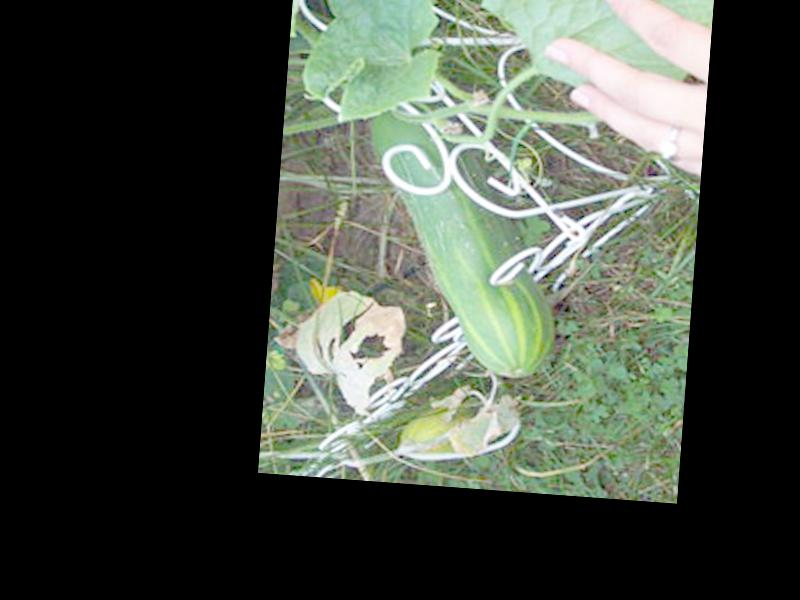Cucumber: (352, 106, 568, 379)
